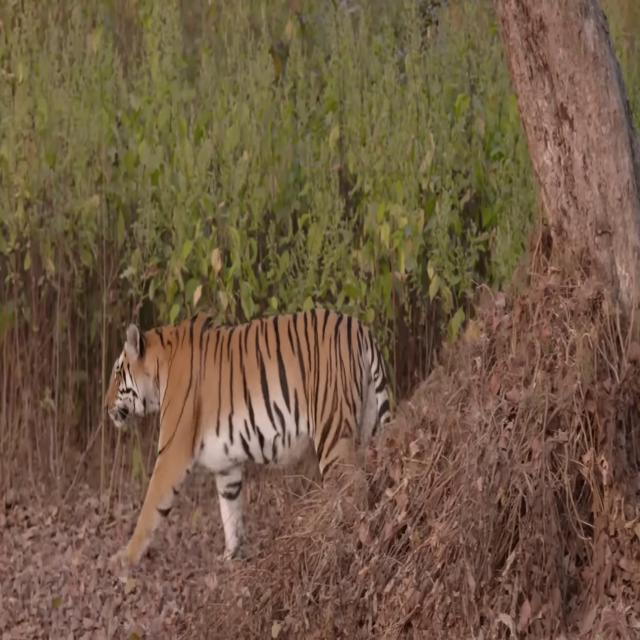tiger: (104, 305, 391, 584)
